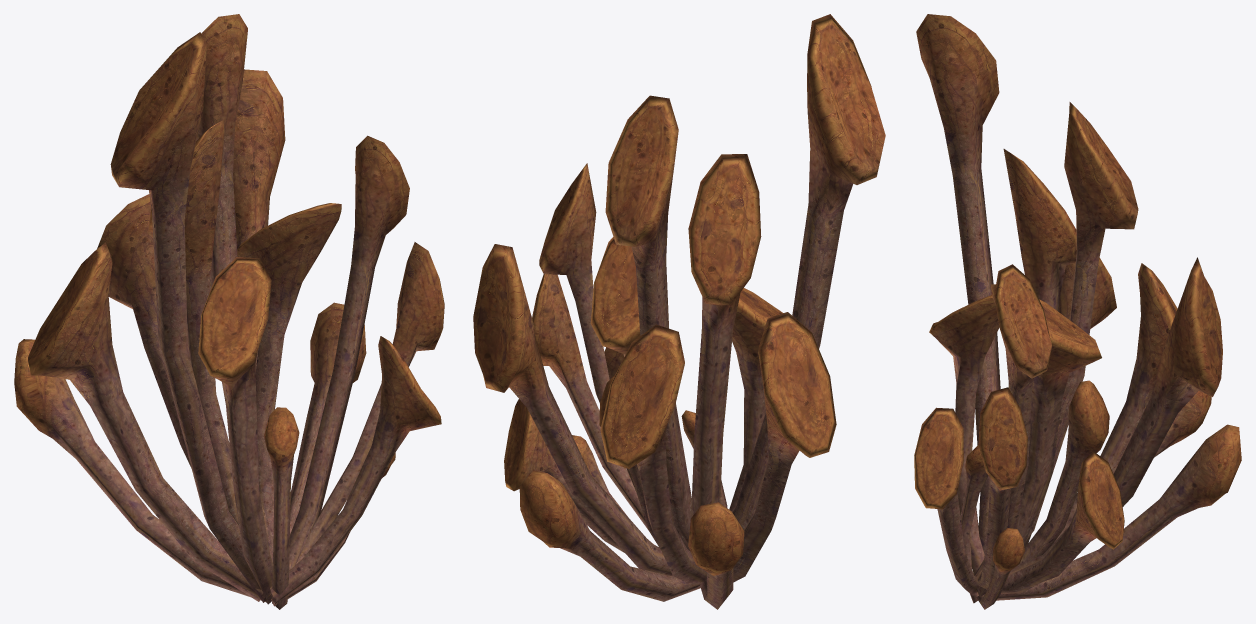
Rendered from Shroom_Plant2_2_L1.fbx.
3 views of the same model, side by side, from view 1: azimuth 30°, elevation 25°; view 2: azimuth 150°, elevation 25°; view 3: azimuth 270°, elevation 25° (orthographic). The views are drawn at different scales.
Parts seen in each view (by area): view 1: polySurface287; view 2: polySurface287; view 3: polySurface287.
Part boxes in pixels (<box>): polySurface287: <box>14,14,444,609</box>; polySurface287: <box>473,14,885,609</box>; polySurface287: <box>914,14,1241,609</box>.
Bounding box in the file's own units: 80.27 × 130 × 70.82.
